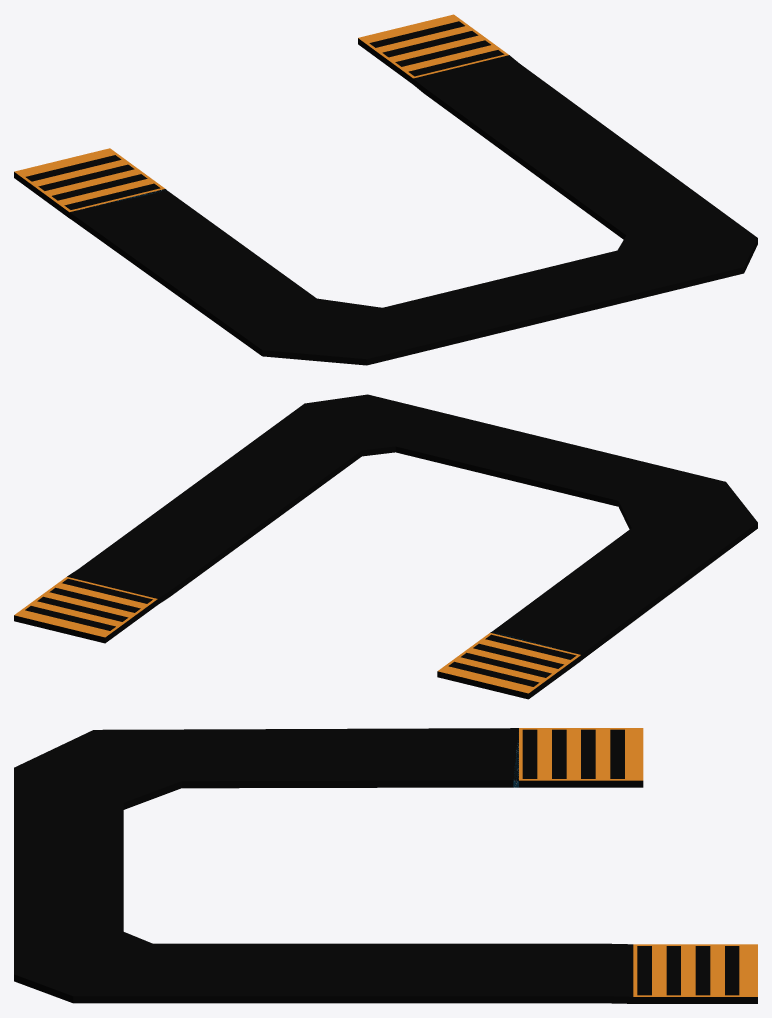
File: Track01.fbx
The picture shows the model from 3 angles, top to bottom: view 1: azimuth 30°, elevation 25°; view 2: azimuth 150°, elevation 25°; view 3: azimuth 270°, elevation 25°; orthographic projection. The views are drawn at different scales.
Parts seen in each view (by area): view 1: Track_001; view 2: Track_001; view 3: Track_001.
Part boxes in pixels (left/top/right/bottom): Track_001: left=14, top=14, right=757, bottom=365; Track_001: left=14, top=394, right=757, bottom=699; Track_001: left=14, top=728, right=757, bottom=1003.
Size of the model in its own units: 40.88 by 0.5 by 47.8.
